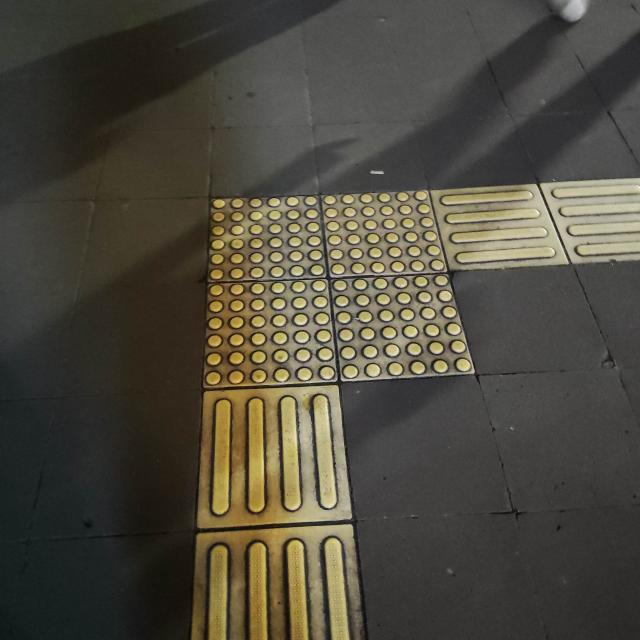kanan: (145, 129, 640, 452)
